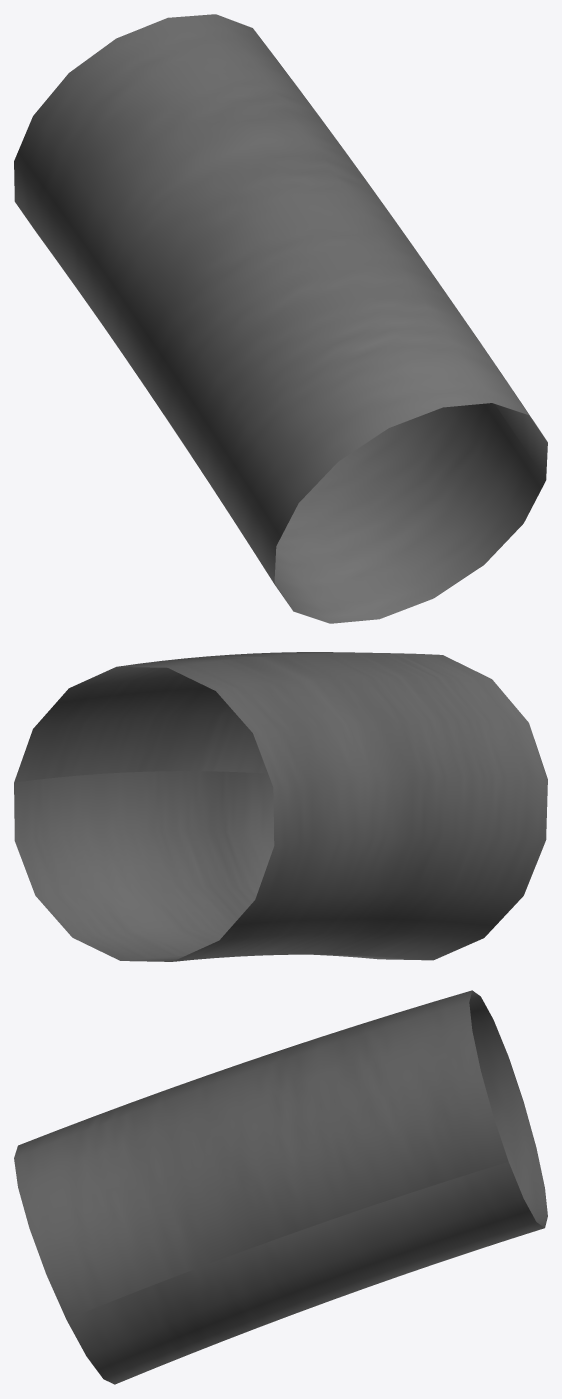
Rendered from mastarmcurve_6x2_c3.obj.
3 views of the same model, one above another, from view 1: azimuth 30°, elevation 25°; view 2: azimuth 150°, elevation 25°; view 3: azimuth 270°, elevation 25° (orthographic). The views are drawn at different scales.
Parts seen in each view (by area): view 1: mastarm_6x2_c3; view 2: mastarm_6x2_c3; view 3: mastarm_6x2_c3.
Boxes of the visible parts, x1,y1,x2,y2 form: mastarm_6x2_c3: (14, 14, 547, 623); mastarm_6x2_c3: (14, 652, 547, 961); mastarm_6x2_c3: (14, 990, 547, 1384).
Bounding box in the file's own units: 0.5833 × 0.9222 × 1.21.
